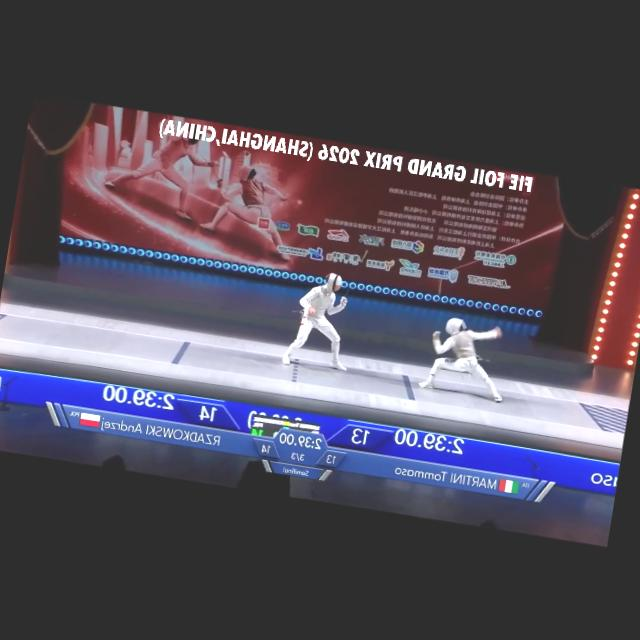blade: (424, 272, 452, 342), (338, 246, 370, 305)
